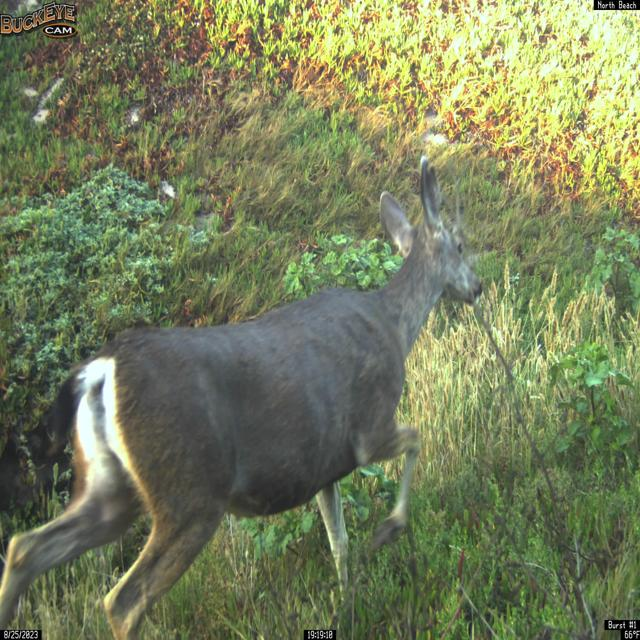deer: (0, 155, 484, 640)
